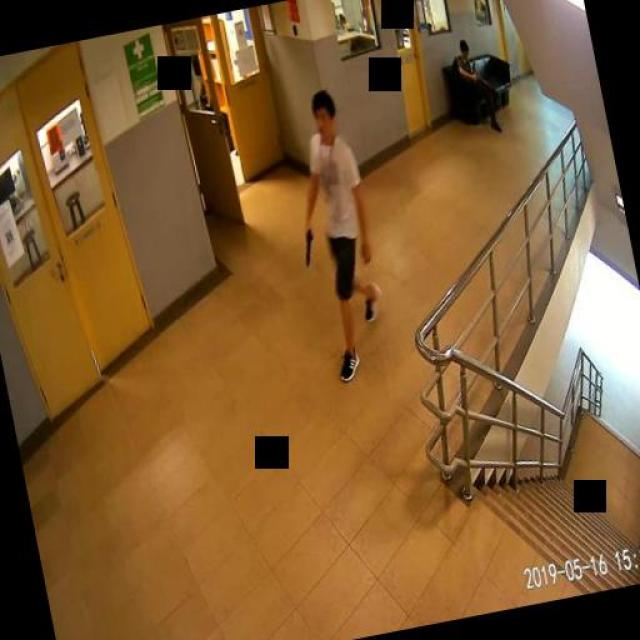gun: (294, 225, 322, 270)
